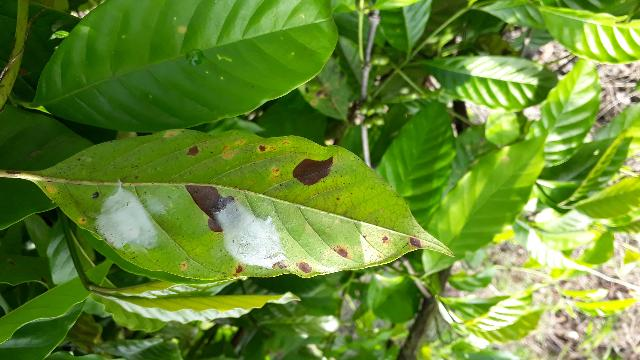rust_level_2: (23, 126, 461, 283)
